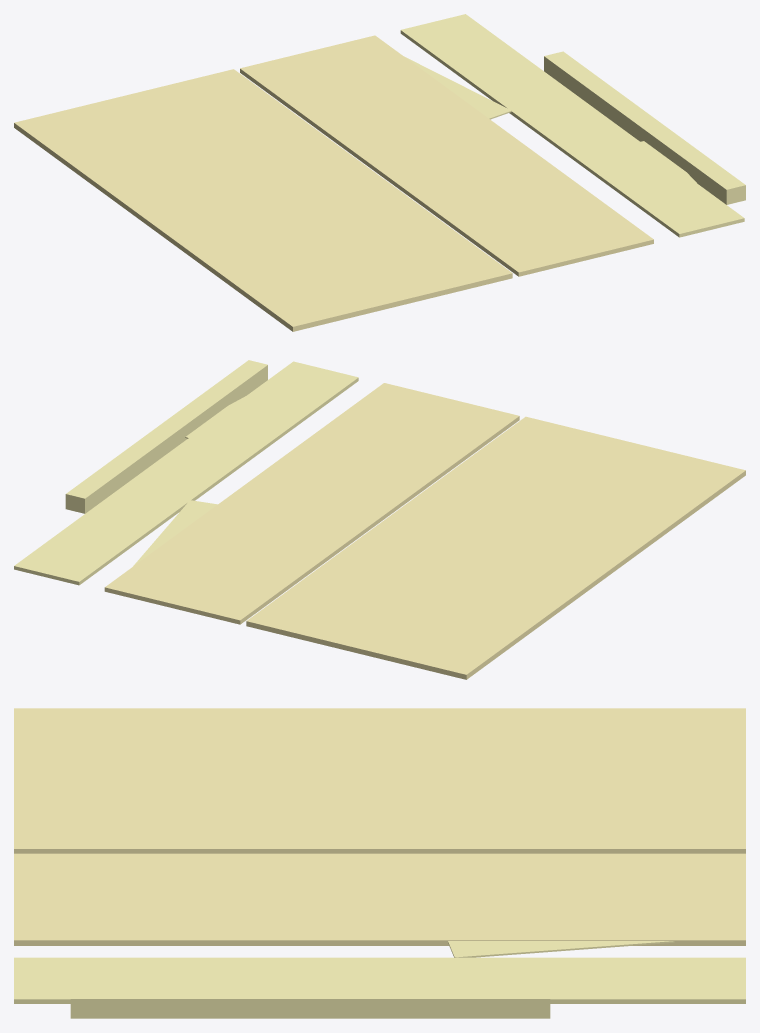
The model's file is road_service_lane_apron.glb.
3 renders of one model, top to bottom at view 1: azimuth 30°, elevation 25°; view 2: azimuth 150°, elevation 25°; view 3: azimuth 270°, elevation 25°, orthographic. The views are drawn at different scales.
Visible parts, largest first — view 1: through_lane, service_lane, service_apron, mountable_curb, apron_repair, utility_patch; view 2: through_lane, service_lane, service_apron, mountable_curb, apron_repair, utility_patch; view 3: through_lane, service_lane, service_apron, mountable_curb, utility_patch.
Boxes of the visible parts, left/top/right/bottom form: through_lane: left=14, top=69, right=512, bottom=331; service_lane: left=240, top=35, right=653, bottom=276; service_apron: left=400, top=14, right=744, bottom=237; mountable_curb: left=544, top=51, right=745, bottom=204; apron_repair: left=632, top=141, right=710, bottom=201; utility_patch: left=404, top=56, right=511, bottom=119; through_lane: left=246, top=416, right=745, bottom=679; service_lane: left=104, top=383, right=519, bottom=624; service_apron: left=14, top=361, right=358, bottom=585; mountable_curb: left=65, top=360, right=267, bottom=513; apron_repair: left=185, top=384, right=287, bottom=440; utility_patch: left=133, top=500, right=217, bottom=566; through_lane: left=14, top=708, right=745, bottom=853; service_lane: left=14, top=853, right=745, bottom=945; service_apron: left=14, top=957, right=745, bottom=1003; mountable_curb: left=70, top=986, right=550, bottom=1018; utility_patch: left=448, top=941, right=674, bottom=957.
Size of the model in its own units: 3.93 by 0.12 by 4.
